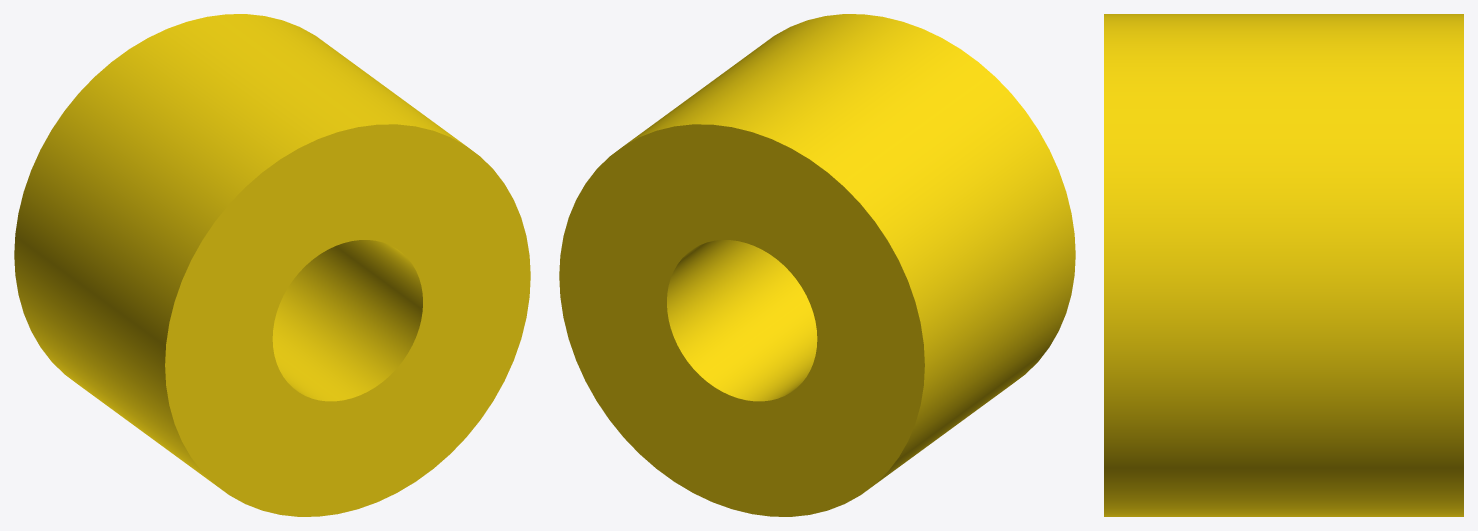
The picture shows the model from 3 angles, left to right: view 1: azimuth 30°, elevation 25°; view 2: azimuth 150°, elevation 25°; view 3: azimuth 270°, elevation 25°; orthographic projection. The views are drawn at different scales.
Visible parts, largest first — view 1: mesh59215, mesh59214, mesh59217; view 2: mesh59216, mesh59214, mesh59217; view 3: mesh59214.
Part boxes in pixels (<box>): mesh59215: <box>165,124,530,516</box>; mesh59214: <box>14,14,464,490</box>; mesh59217: <box>272,240,422,401</box>; mesh59216: <box>559,124,924,516</box>; mesh59214: <box>625,14,1075,490</box>; mesh59217: <box>667,240,817,401</box>; mesh59214: <box>1104,14,1463,516</box>.
Bounding box in the file's own units: 0.00889 × 0.00888 × 0.00635.
